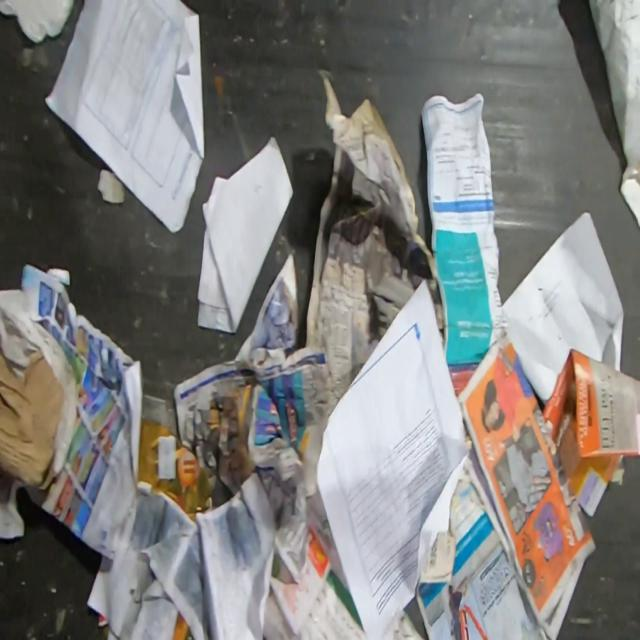cardboard: (0, 341, 65, 492)
soft_plastic: (138, 420, 212, 525), (170, 612, 195, 639), (98, 612, 111, 640)
